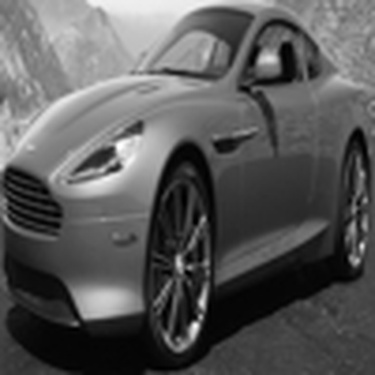car: (3, 13, 363, 354)
